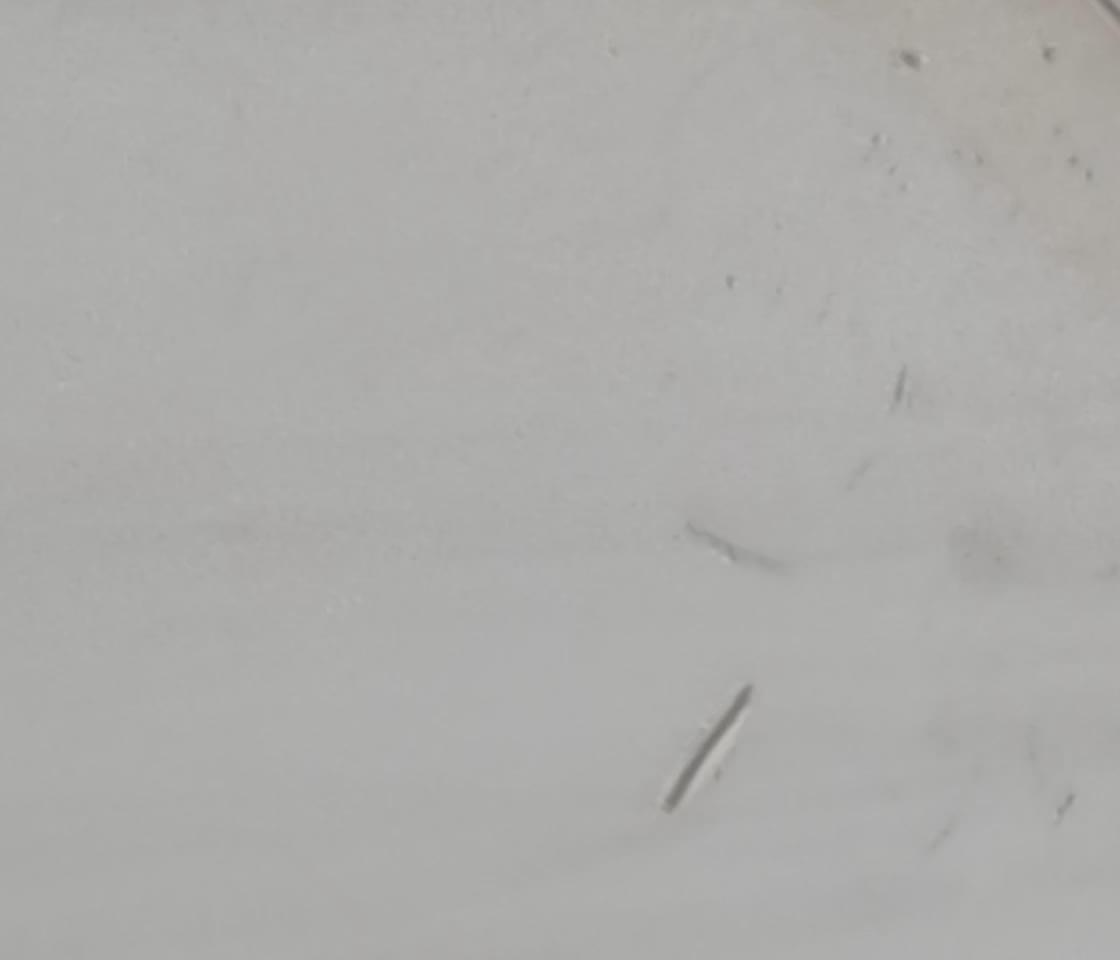scratch: (650, 684, 759, 818)
